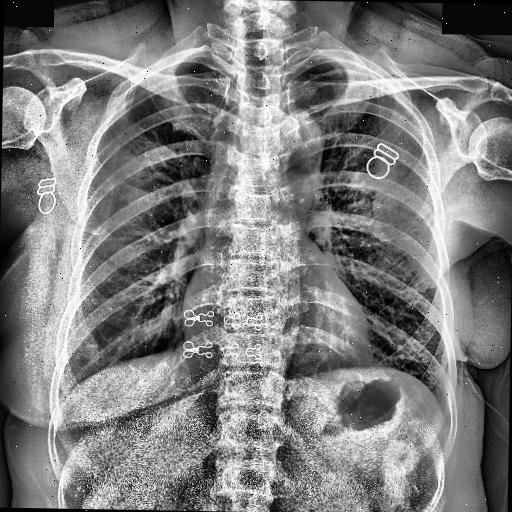0- Aortic enlargement: (268, 102, 322, 184), (268, 106, 325, 180), (266, 106, 323, 170)
